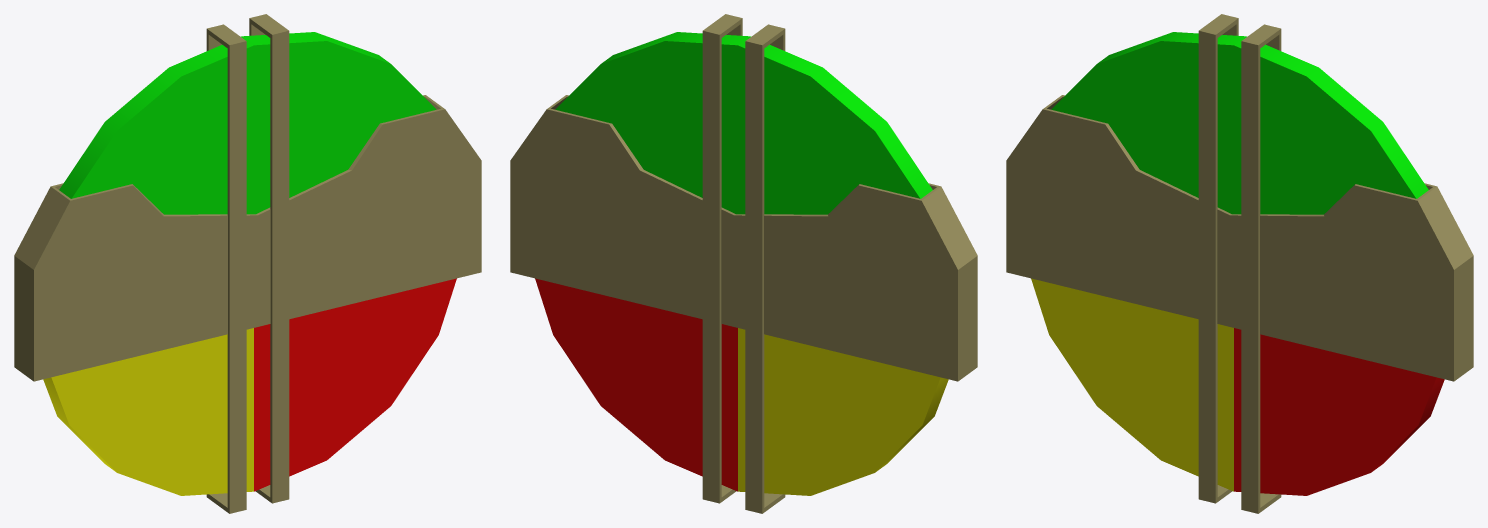
File: gyroscope.fbx
The picture shows the model from 3 angles, left to right: view 1: azimuth 30°, elevation 25°; view 2: azimuth 150°, elevation 25°; view 3: azimuth 330°, elevation 25°; orthographic projection.
Parts seen in each view (by area): view 1: pCylinder1, pCube1, pCube2, pCube3; view 2: pCylinder1, pCube1, pCube2, pCube3; view 3: pCylinder1, pCube1, pCube3, pCube2.
Boxes of the visible parts, x1=… form: pCylinder1: x1=43, y1=32, x2=456, y2=495; pCube1: x1=14, y1=95, x2=481, y2=381; pCube2: x1=206, y1=24, x2=246, y2=513; pCube3: x1=249, y1=14, x2=289, y2=503; pCylinder1: x1=535, y1=32, x2=948, y2=495; pCube1: x1=510, y1=95, x2=977, y2=381; pCube2: x1=745, y1=24, x2=785, y2=513; pCube3: x1=702, y1=14, x2=742, y2=503; pCylinder1: x1=1031, y1=32, x2=1444, y2=495; pCube1: x1=1006, y1=95, x2=1473, y2=381; pCube3: x1=1241, y1=24, x2=1281, y2=513; pCube2: x1=1198, y1=14, x2=1238, y2=503.
Size of the model in its own units: 2.1 by 2.1 by 0.1856.
